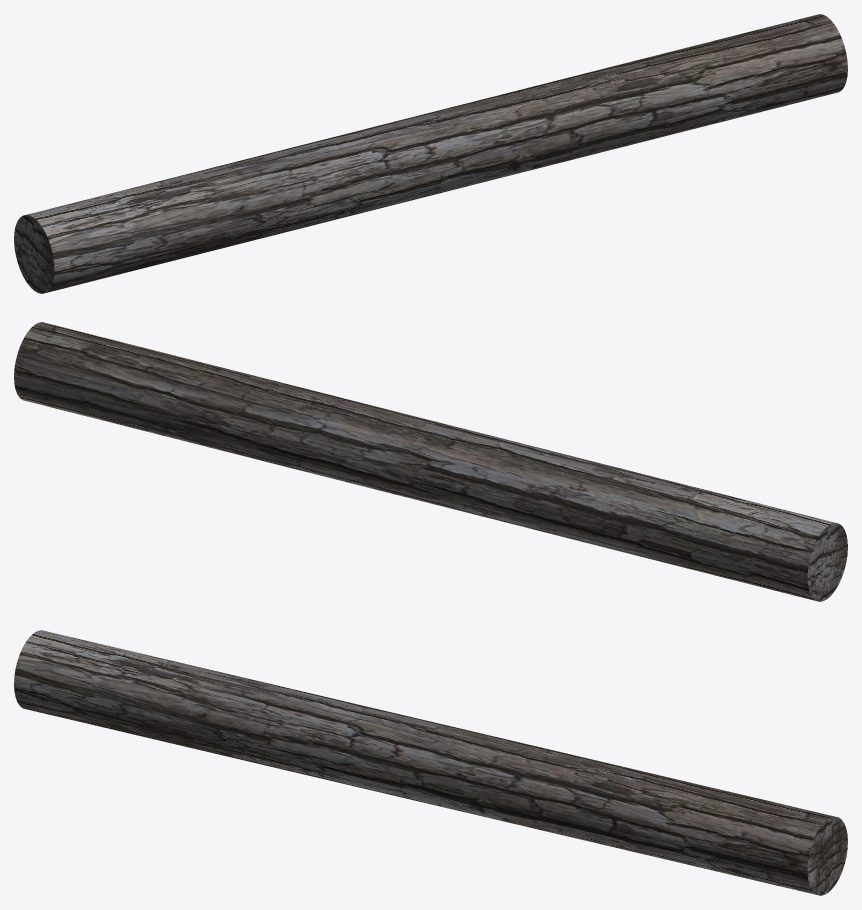
The model's file is Bridge1.gltf.
The picture shows the model from 3 angles, top to bottom: view 1: azimuth 30°, elevation 25°; view 2: azimuth 150°, elevation 25°; view 3: azimuth 330°, elevation 25°; orthographic projection.
Parts seen in each view (by area): view 1: Cylinder; view 2: Cylinder; view 3: Cylinder.
Part boxes in pixels (left/top/right/bottom): Cylinder: left=14, top=14, right=847, bottom=293; Cylinder: left=14, top=322, right=847, bottom=601; Cylinder: left=14, top=630, right=847, bottom=895.
Bounding box in the file's own units: 22.66 × 2.2 × 2.
Materials: 1 (1 with a texture image).
